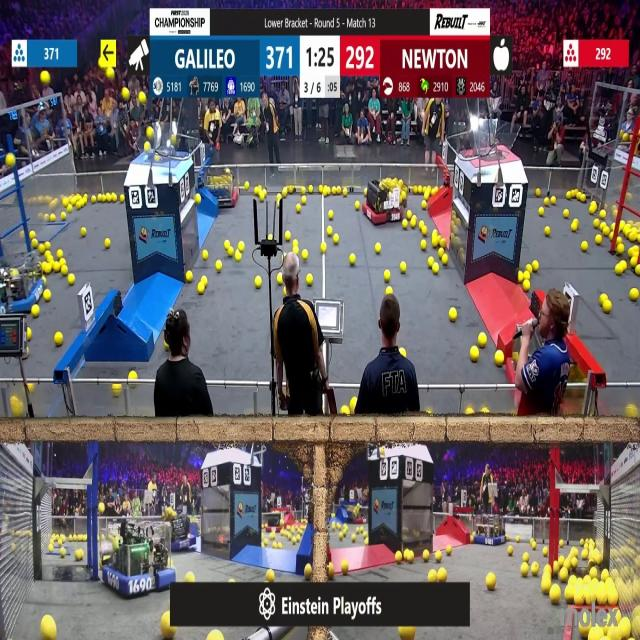ball_airborne: (5, 155, 15, 169), (41, 72, 49, 84), (139, 94, 147, 105), (121, 89, 128, 101), (100, 58, 107, 70), (107, 68, 114, 79), (99, 502, 106, 513), (146, 128, 153, 138), (623, 134, 629, 143), (144, 142, 149, 152), (172, 136, 177, 145), (154, 153, 159, 160)
ball_ground: (41, 617, 55, 640), (160, 614, 171, 640), (550, 586, 562, 604), (401, 627, 416, 640), (486, 573, 496, 589), (564, 588, 574, 604), (627, 406, 637, 419), (469, 347, 478, 361), (267, 568, 276, 582), (56, 333, 64, 348), (438, 569, 448, 581), (209, 631, 222, 640), (478, 334, 486, 348), (495, 352, 503, 366), (305, 564, 313, 578), (522, 563, 530, 577), (560, 568, 568, 582), (630, 288, 639, 300), (450, 309, 458, 322), (407, 551, 415, 564), (540, 581, 548, 594), (427, 570, 436, 581), (602, 302, 610, 314), (32, 306, 40, 318), (617, 264, 625, 276), (42, 264, 50, 276), (43, 289, 50, 302), (342, 560, 349, 573), (327, 563, 334, 576), (186, 571, 194, 582), (395, 552, 402, 564), (307, 274, 314, 286), (68, 274, 75, 286), (531, 562, 538, 574), (112, 384, 121, 393), (630, 256, 638, 266), (61, 266, 69, 276), (185, 272, 192, 283), (254, 277, 261, 288), (411, 217, 418, 228), (54, 264, 61, 275), (524, 280, 530, 292), (465, 409, 473, 418), (277, 274, 283, 286), (602, 224, 608, 236), (516, 272, 522, 284), (198, 284, 205, 294), (571, 220, 578, 230), (434, 552, 441, 562), (130, 369, 137, 379), (618, 244, 625, 254), (284, 232, 291, 242), (334, 235, 341, 245), (440, 239, 447, 249), (589, 205, 596, 215), (239, 242, 245, 253), (376, 243, 382, 254), (350, 253, 356, 264), (303, 249, 309, 260), (535, 263, 541, 274), (76, 550, 82, 561), (523, 553, 530, 562), (420, 241, 427, 250), (344, 408, 351, 417), (524, 272, 531, 281), (400, 264, 406, 274), (423, 552, 429, 562), (236, 250, 242, 260), (443, 254, 449, 264), (27, 328, 33, 338), (432, 265, 438, 275), (583, 242, 589, 252), (194, 192, 200, 202), (596, 236, 602, 246), (447, 544, 453, 554), (571, 558, 577, 568), (61, 549, 67, 559), (431, 238, 437, 248), (554, 562, 560, 572), (28, 383, 34, 393), (543, 565, 550, 573), (200, 278, 207, 286), (322, 188, 329, 196), (216, 262, 221, 273), (385, 271, 390, 282), (543, 226, 549, 235), (80, 229, 86, 238), (551, 197, 557, 206), (399, 348, 405, 357), (514, 352, 520, 361), (422, 201, 428, 210), (63, 199, 69, 208), (507, 544, 512, 554), (105, 239, 110, 249), (204, 250, 209, 260), (635, 267, 640, 277), (223, 240, 228, 250), (321, 243, 326, 253), (351, 398, 356, 408), (527, 264, 532, 274), (39, 244, 44, 254), (542, 548, 547, 558), (386, 286, 392, 294), (227, 248, 233, 256), (538, 208, 544, 216), (326, 226, 332, 234), (258, 192, 264, 200), (32, 240, 38, 248), (244, 181, 250, 189), (422, 226, 428, 234), (343, 188, 349, 196), (594, 220, 600, 228), (76, 202, 82, 210), (303, 195, 309, 203), (482, 409, 490, 415), (355, 202, 360, 211), (428, 257, 433, 266), (402, 219, 407, 228), (295, 204, 300, 213), (58, 249, 63, 258), (408, 210, 413, 219), (163, 344, 168, 353), (600, 210, 605, 219), (282, 188, 287, 197), (106, 191, 111, 200), (534, 188, 540, 195), (292, 247, 298, 254), (292, 240, 298, 247), (61, 213, 67, 220), (30, 233, 36, 240), (362, 531, 368, 538), (98, 193, 104, 200), (564, 210, 569, 218), (328, 210, 332, 220), (119, 194, 124, 202), (600, 293, 605, 301), (269, 234, 274, 242), (309, 185, 314, 193), (609, 232, 614, 240), (61, 258, 66, 266), (565, 194, 570, 202), (579, 195, 584, 203), (272, 532, 277, 540), (340, 532, 345, 540), (48, 544, 53, 552), (617, 237, 622, 245), (231, 577, 237, 583), (276, 202, 282, 208), (427, 411, 433, 417), (431, 232, 437, 238), (278, 542, 284, 548), (468, 535, 473, 542), (440, 248, 445, 255), (93, 195, 98, 202), (68, 206, 73, 213), (532, 541, 536, 549), (544, 199, 548, 207), (352, 534, 356, 542), (424, 191, 428, 199), (277, 195, 281, 203), (112, 192, 116, 200), (363, 539, 368, 545), (517, 535, 521, 542), (50, 214, 54, 221), (472, 538, 476, 545), (505, 534, 509, 541), (560, 539, 564, 546), (274, 542, 278, 548)
goal: (464, 121, 520, 160), (134, 126, 189, 160)
robot_blue: (99, 519, 177, 599), (0, 253, 43, 315), (203, 167, 239, 206), (166, 514, 196, 552), (474, 514, 506, 546)
robot_red: (364, 175, 408, 224), (265, 512, 285, 533), (346, 504, 367, 523)
